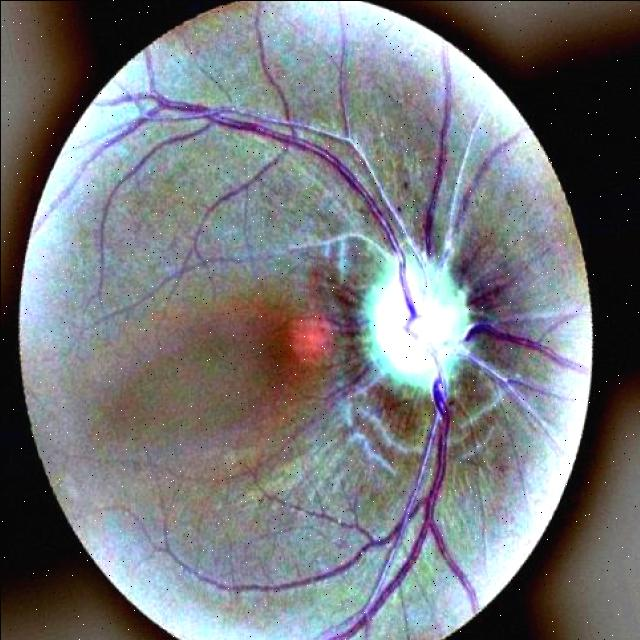Macula: (244, 309, 327, 414)
Nerves: (72, 59, 428, 334), (157, 356, 471, 640)
Optic Disk: (332, 217, 497, 414)
